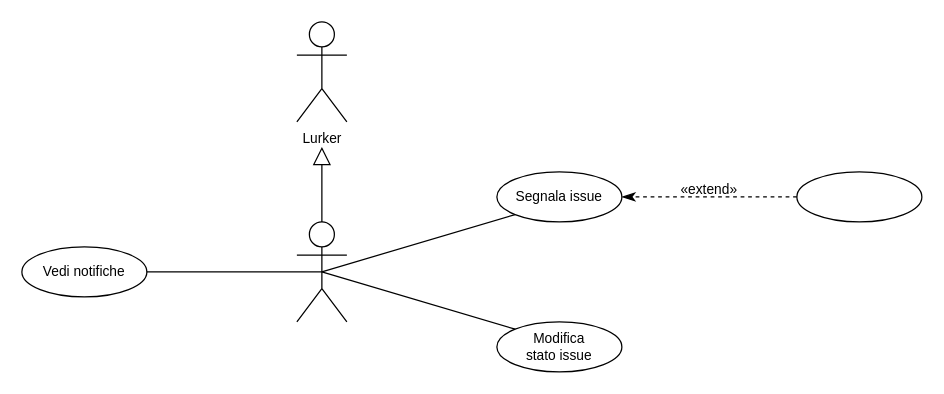
The diagram is 944 pixels wide and 394 high, and some of its shapes have lost their labels. The shapes that lost their labels are listed below. From the top down, each one's centre as x and y in pixels, then its label:
At (859,196): "Crea tag".
At (321,271): "User".
